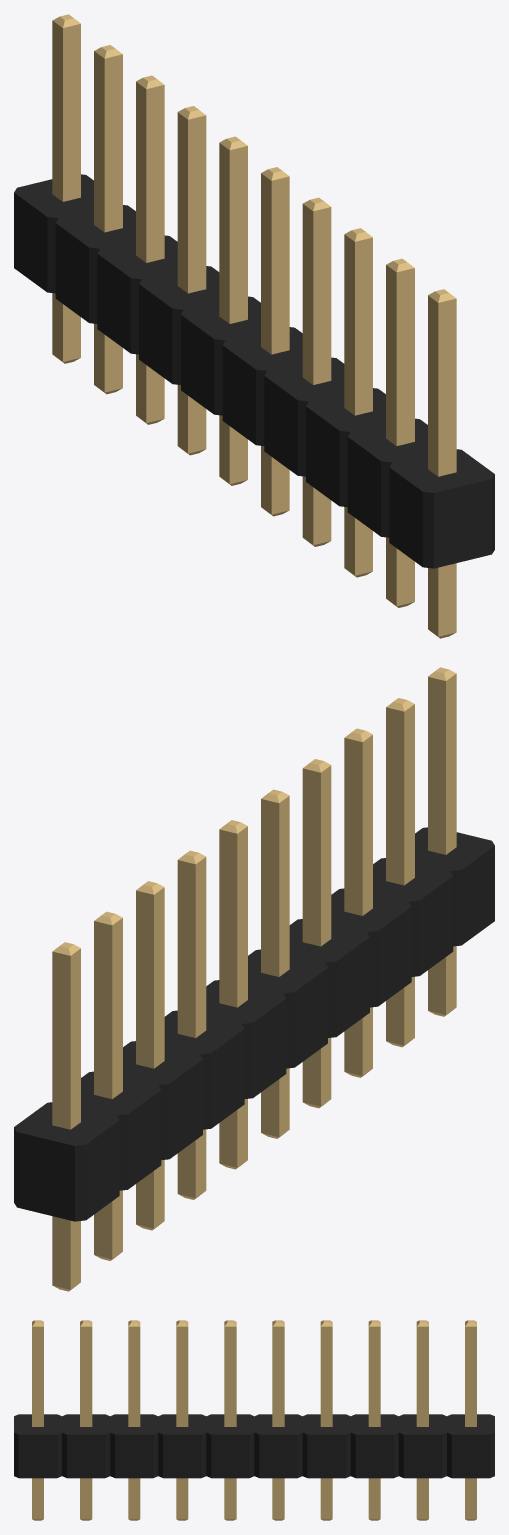
Rendered from pin-header-1x10.glb.
3 renders of one model, top to bottom at view 1: azimuth 30°, elevation 25°; view 2: azimuth 150°, elevation 25°; view 3: azimuth 270°, elevation 25°, orthographic. The views are drawn at different scales.
Parts seen in each view (by area): view 1: PinHeader_1x10_P254mm_Vertical_1f7057, PinHeader_1x10_P254mm_Vertical_802f0e; view 2: PinHeader_1x10_P254mm_Vertical_1f7057, PinHeader_1x10_P254mm_Vertical_802f0e; view 3: PinHeader_1x10_P254mm_Vertical_802f0e, PinHeader_1x10_P254mm_Vertical_1f7057.
Boxes of the visible parts, bbox=[...] form: PinHeader_1x10_P254mm_Vertical_1f7057: bbox=[52, 14, 456, 638]; PinHeader_1x10_P254mm_Vertical_802f0e: bbox=[14, 174, 494, 568]; PinHeader_1x10_P254mm_Vertical_1f7057: bbox=[52, 667, 456, 1291]; PinHeader_1x10_P254mm_Vertical_802f0e: bbox=[14, 827, 494, 1221]; PinHeader_1x10_P254mm_Vertical_802f0e: bbox=[14, 1414, 494, 1478]; PinHeader_1x10_P254mm_Vertical_1f7057: bbox=[32, 1320, 476, 1520].
Bounding box in the file's own units: 2.54 × 11.54 × 25.4.
